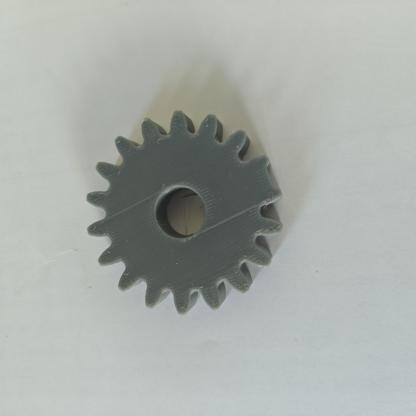defect: (227, 150, 296, 219)
gear: (70, 98, 322, 325)
